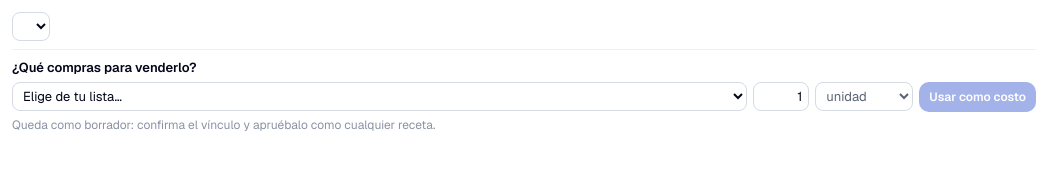
Test: TreatmentPanel inline price › saves the BEBIDA price once through ingredient-costs, then refreshes the dish
Select "BEBIDA" in the dropdown "Elige de tu lista…" at (380, 96), box [12,82,747,111]
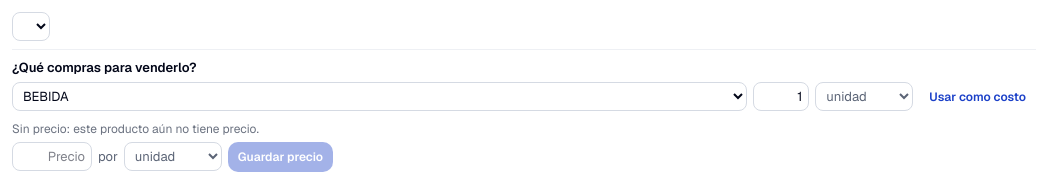
Type "1.5" into the field labelled "Precio" at (52, 157), box [12,142,92,171]
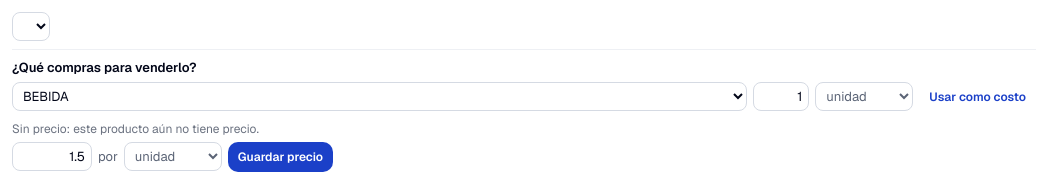
Select "unidad" in the dropdown named "Unidad del precio" at (173, 156), box [124,142,222,171]
Click the button "Guardar precio" at (280, 156), box [228,142,333,172]
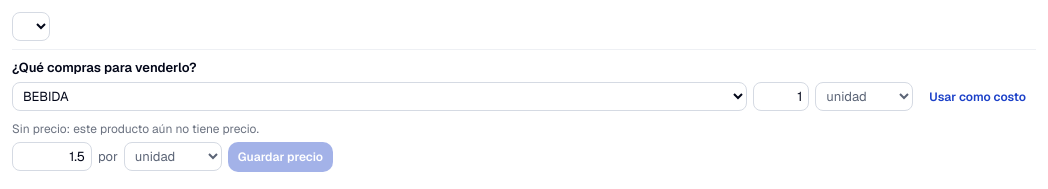
Click the button "Guardar precio" at (280, 156), box [228,142,333,172]
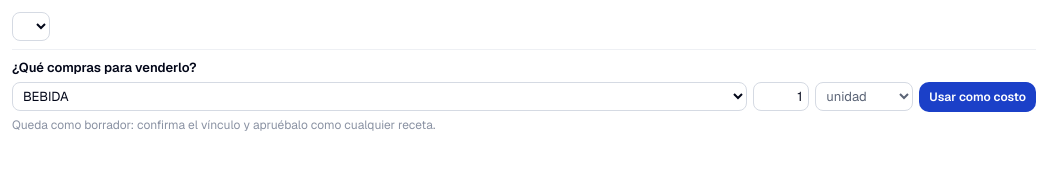
Expected: the button "Guardar precio" is gone
